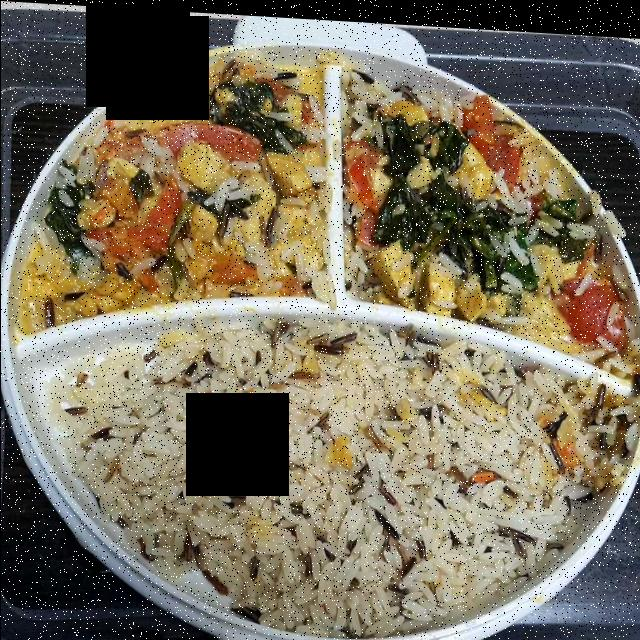chicken-curry-cream-coconut-milk-curry-spices-paste: (26, 63, 630, 349)
mixed-vegetables: (51, 82, 602, 329)
rice-wild: (32, 321, 618, 623)
